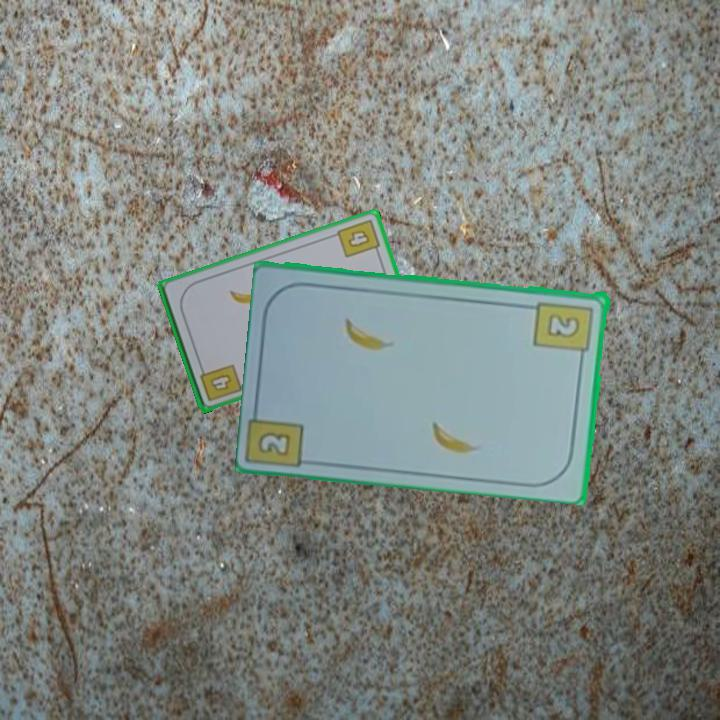2b: (532, 297, 597, 363), (254, 428, 294, 459)
4b: (333, 215, 383, 260), (196, 360, 245, 404)
